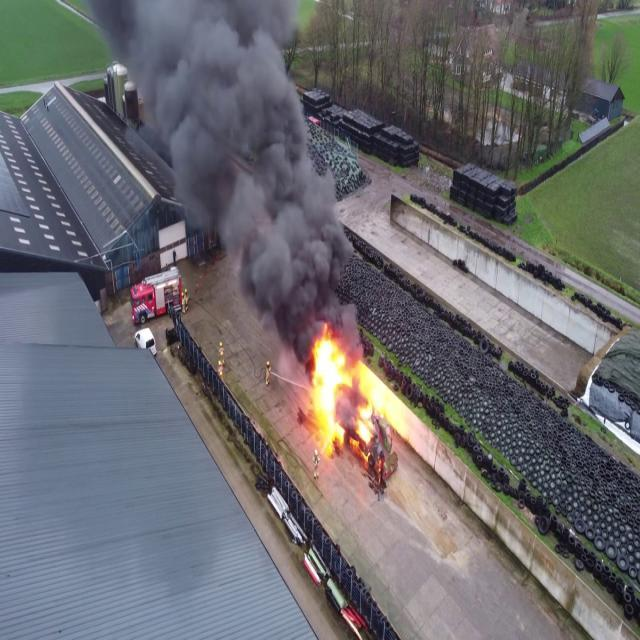Fire: (304, 327, 388, 453)
Smoke: (113, 0, 357, 324)
